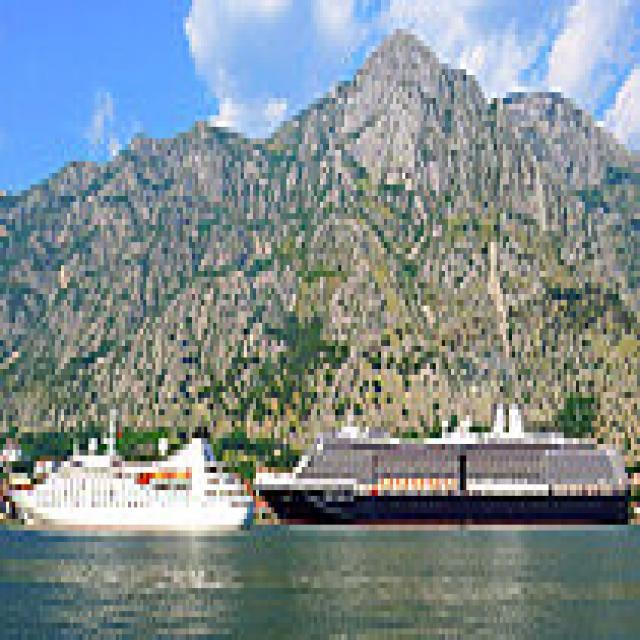Ship: (245, 382, 640, 544), (10, 399, 260, 537)
